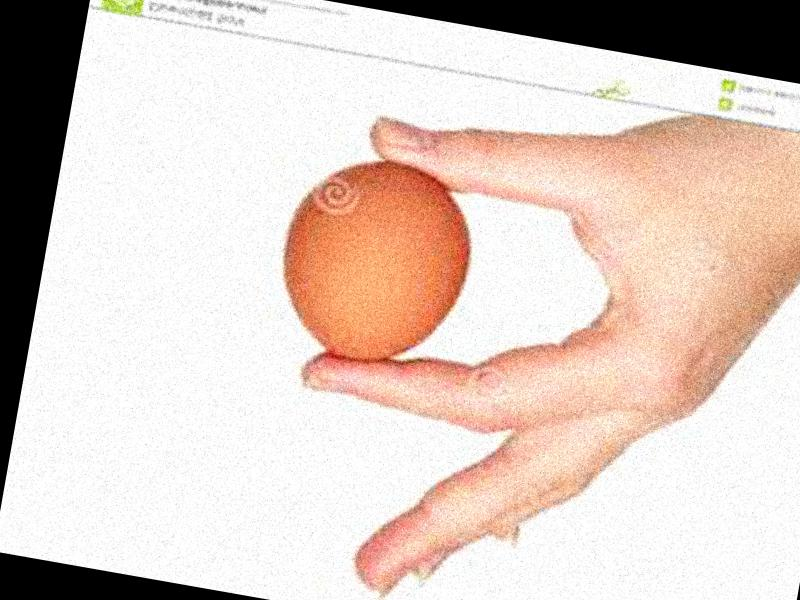Eggs: (265, 144, 487, 377)
